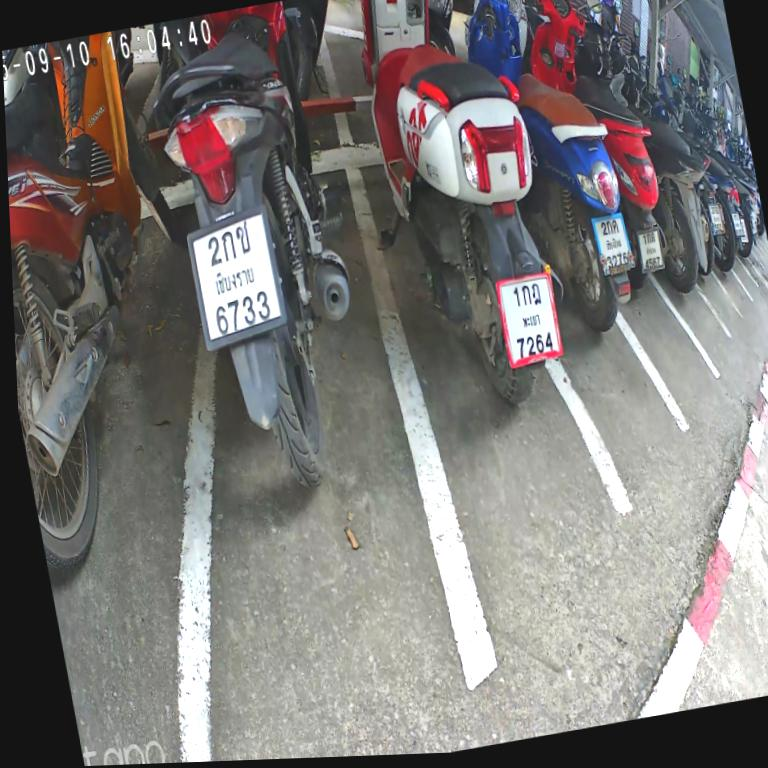license plate: (174, 199, 298, 352), (485, 255, 572, 380), (583, 199, 641, 283), (629, 218, 671, 284), (701, 190, 734, 242)
